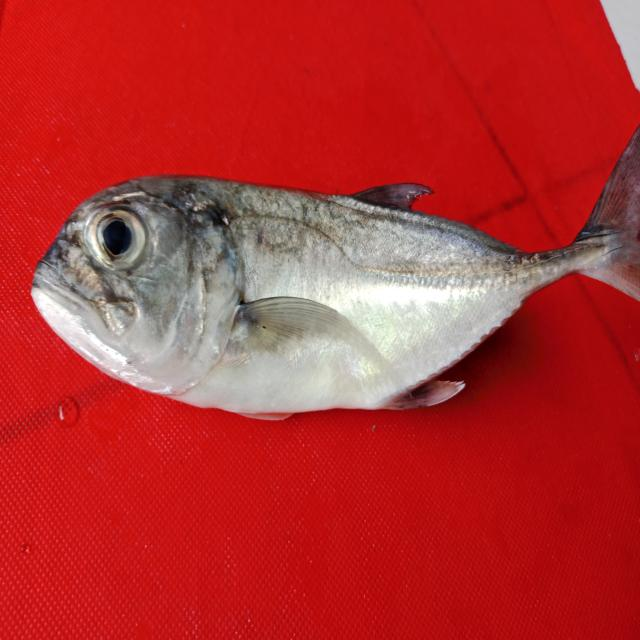ikan: (20, 94, 634, 435)
